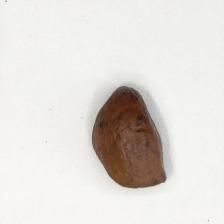NG: (91, 85, 169, 189)
